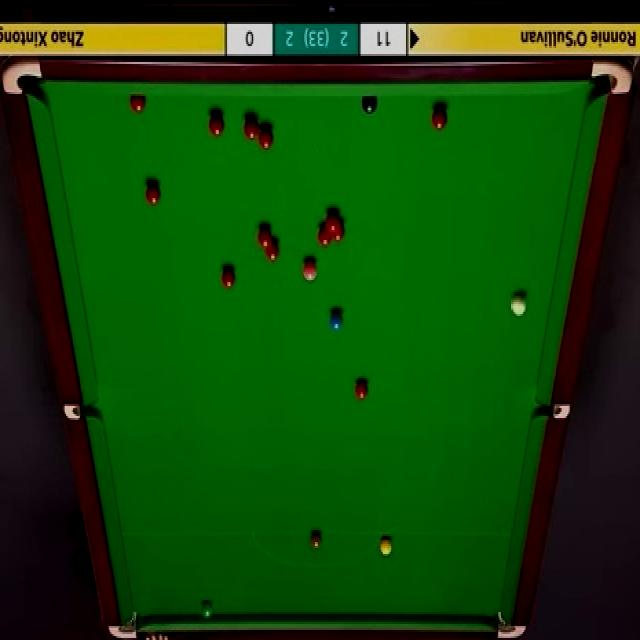black-ball: (360, 94, 378, 115)
blue-ball: (328, 311, 344, 332)
brown-ball: (310, 532, 322, 552)
green-ball: (201, 600, 214, 618)
pink-ball: (301, 256, 318, 281)
red-ball: (243, 114, 259, 143), (432, 105, 449, 132), (208, 110, 225, 136), (220, 265, 236, 291), (258, 124, 274, 150), (144, 182, 160, 206), (257, 225, 272, 249), (332, 218, 346, 242), (356, 376, 368, 403), (264, 242, 280, 262), (318, 222, 331, 246), (129, 97, 147, 114), (324, 210, 340, 229)
white-ball: (510, 292, 530, 318)
yellow-ball: (381, 538, 393, 554)
